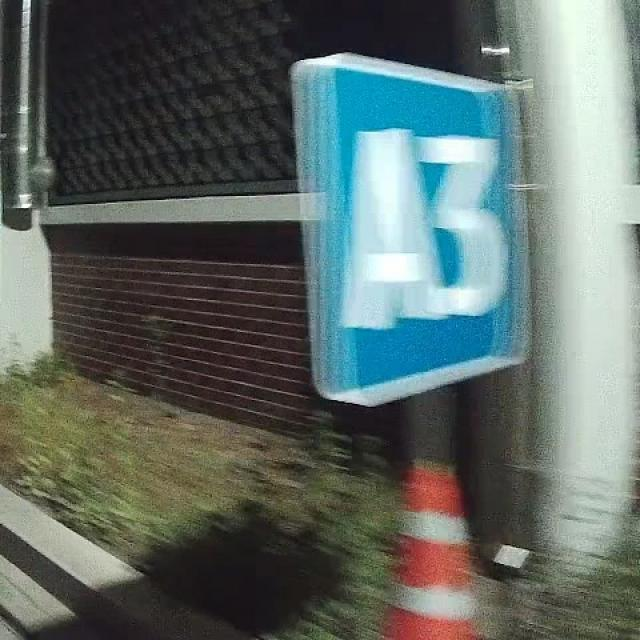a3: (287, 48, 541, 411)
